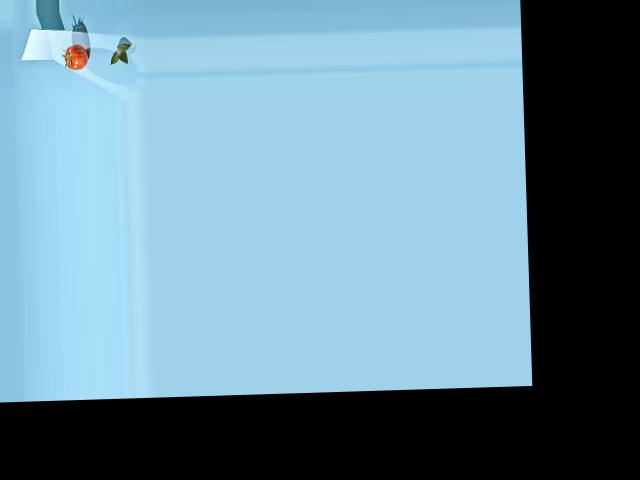tomato: (63, 43, 88, 70)
